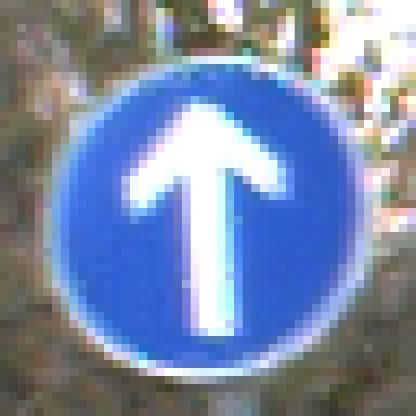AheadOnly: (44, 49, 374, 377)
